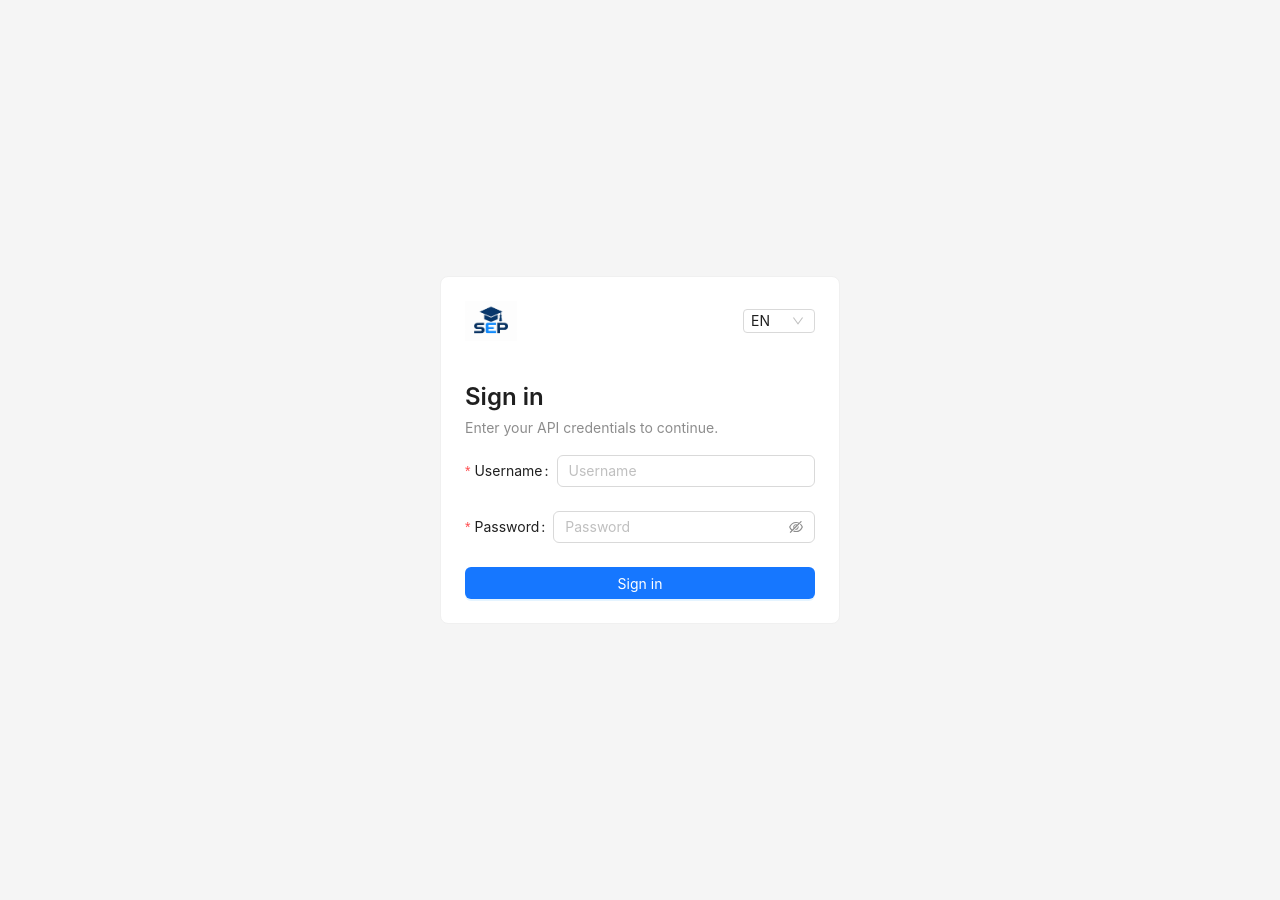
Test: App auth flow › preserves the last selected view across logout and login
Type "dev" into the field labelled "Username" at (686, 471), box [556,455,815,487]
Type "changeme" into the password field labelled "Password" at (675, 527), box [565,516,785,538]
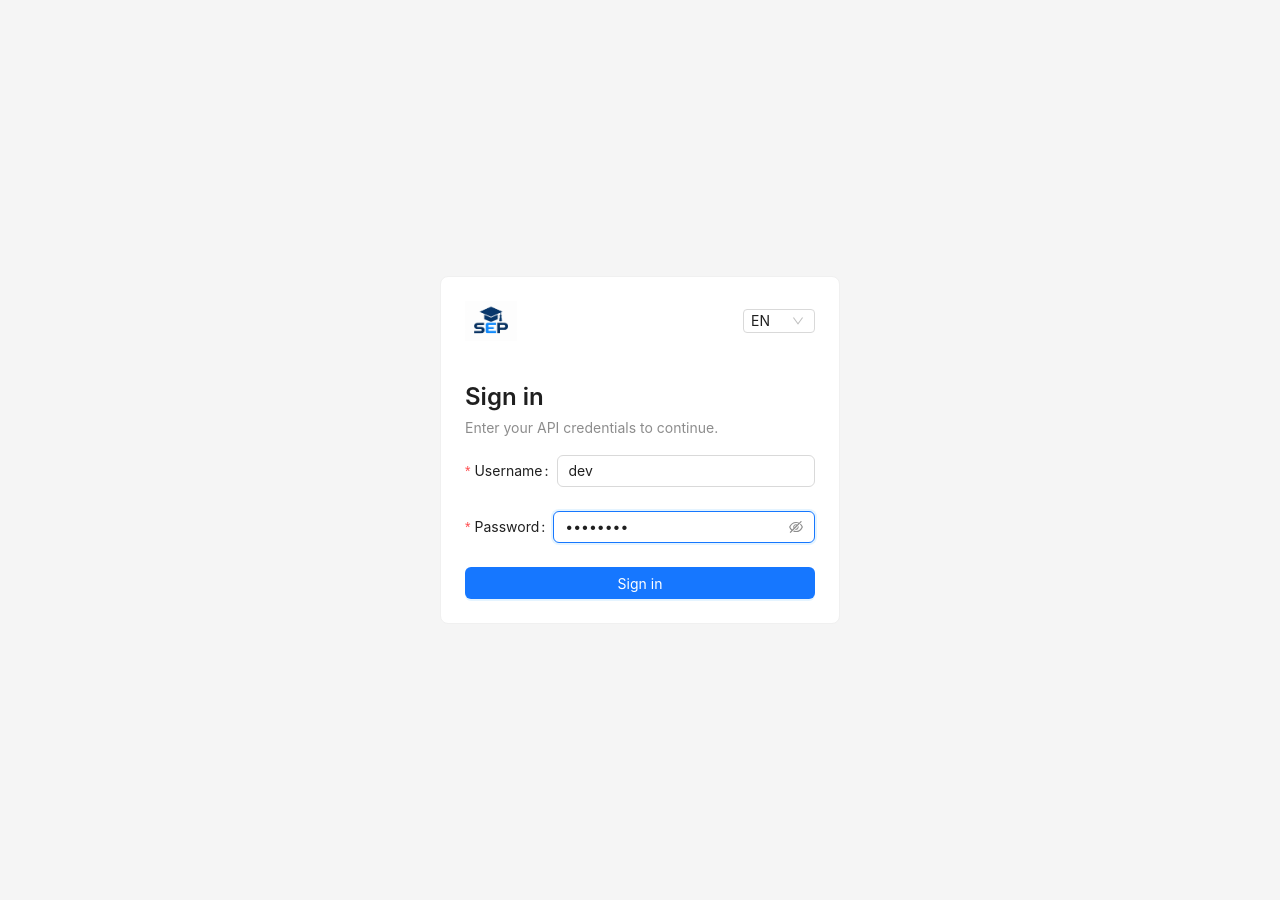
Click the button "Sign in" at (640, 583), box [465,567,815,599]
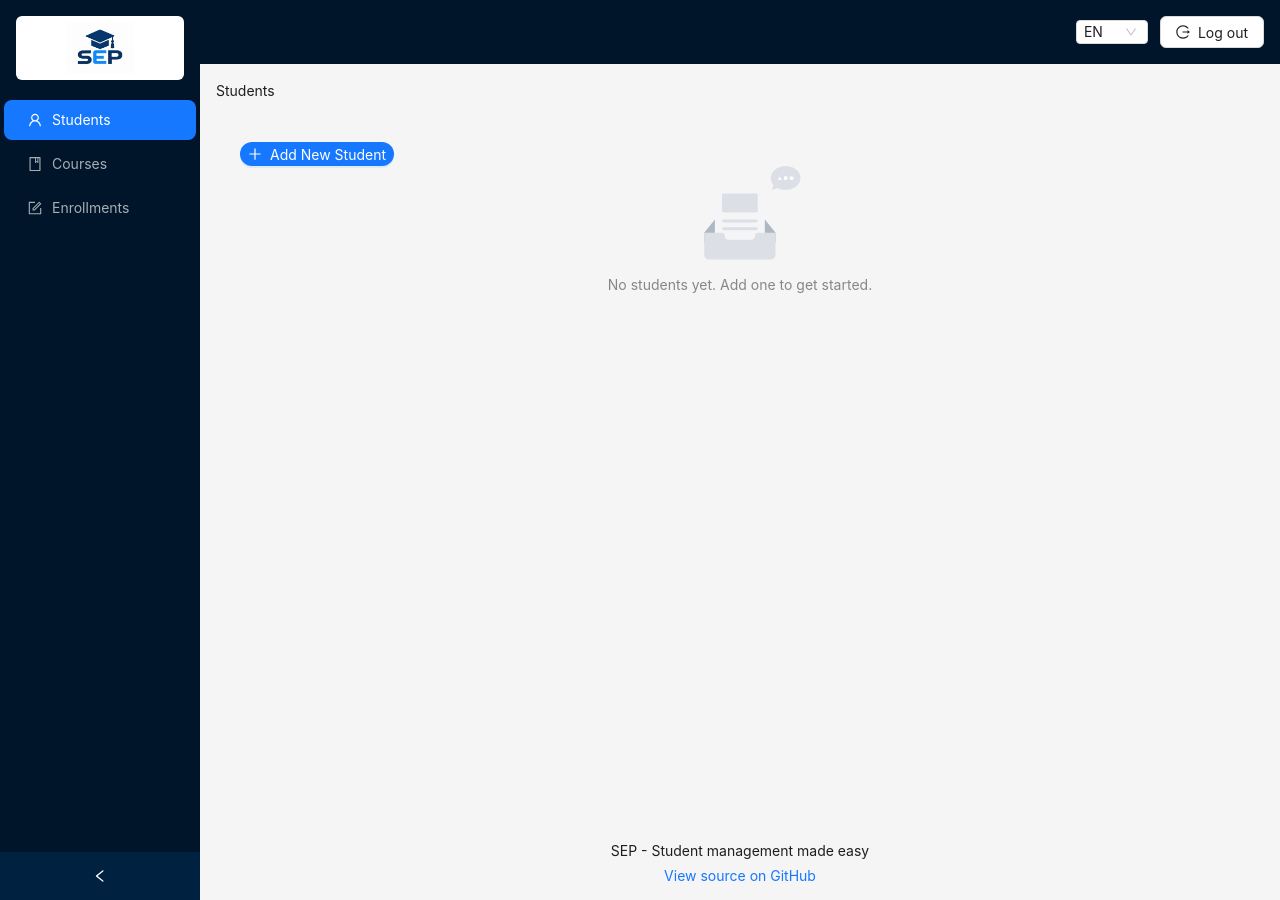
Now the text "Add New Student" is shown, box [270,146,386,162]
Click the menu item "Courses" at (68, 164), box [28,155,107,172]
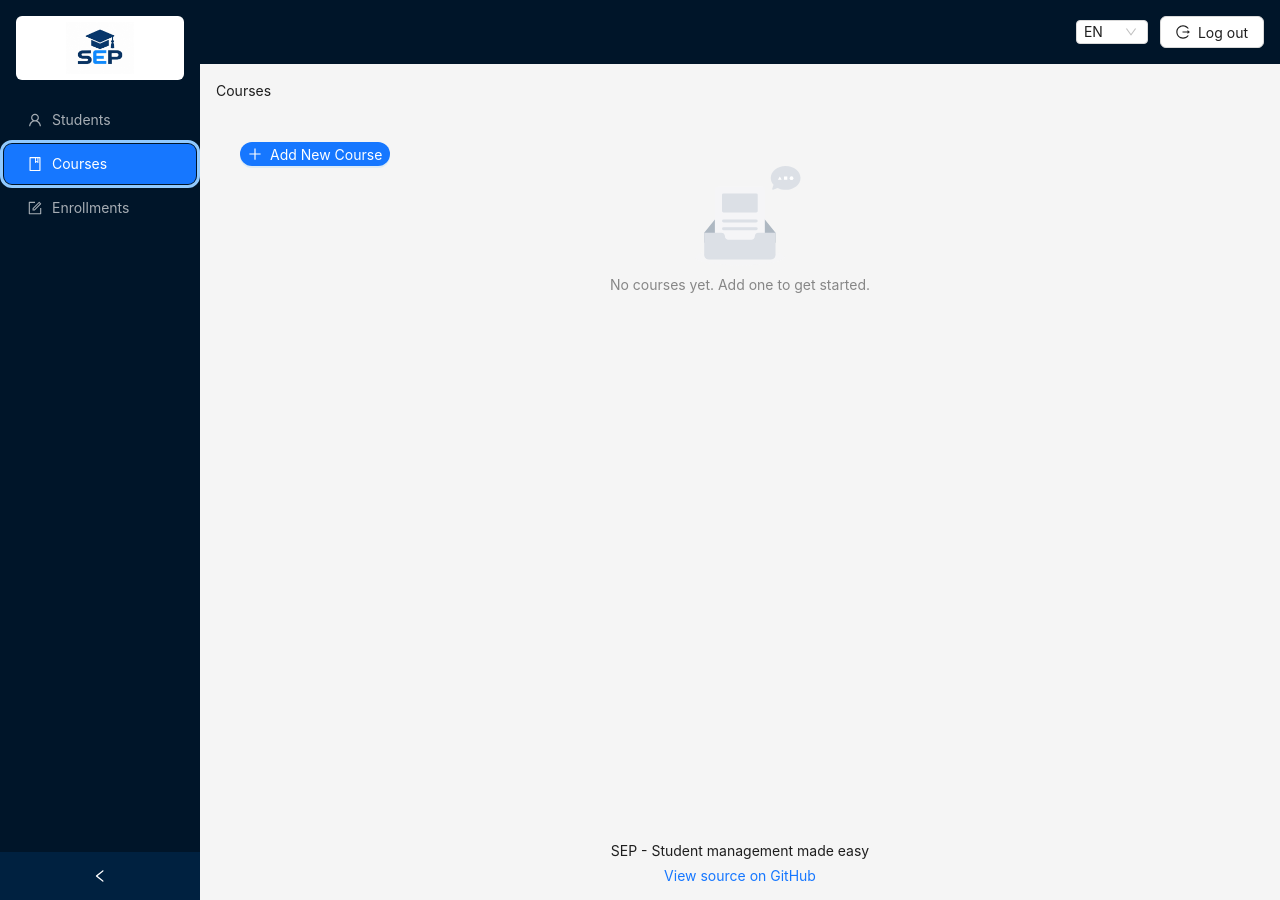
Now the text "Add New Course" is shown, box [270,146,382,162]
Click the button "Log out" at (1212, 32), box [1160,16,1264,48]
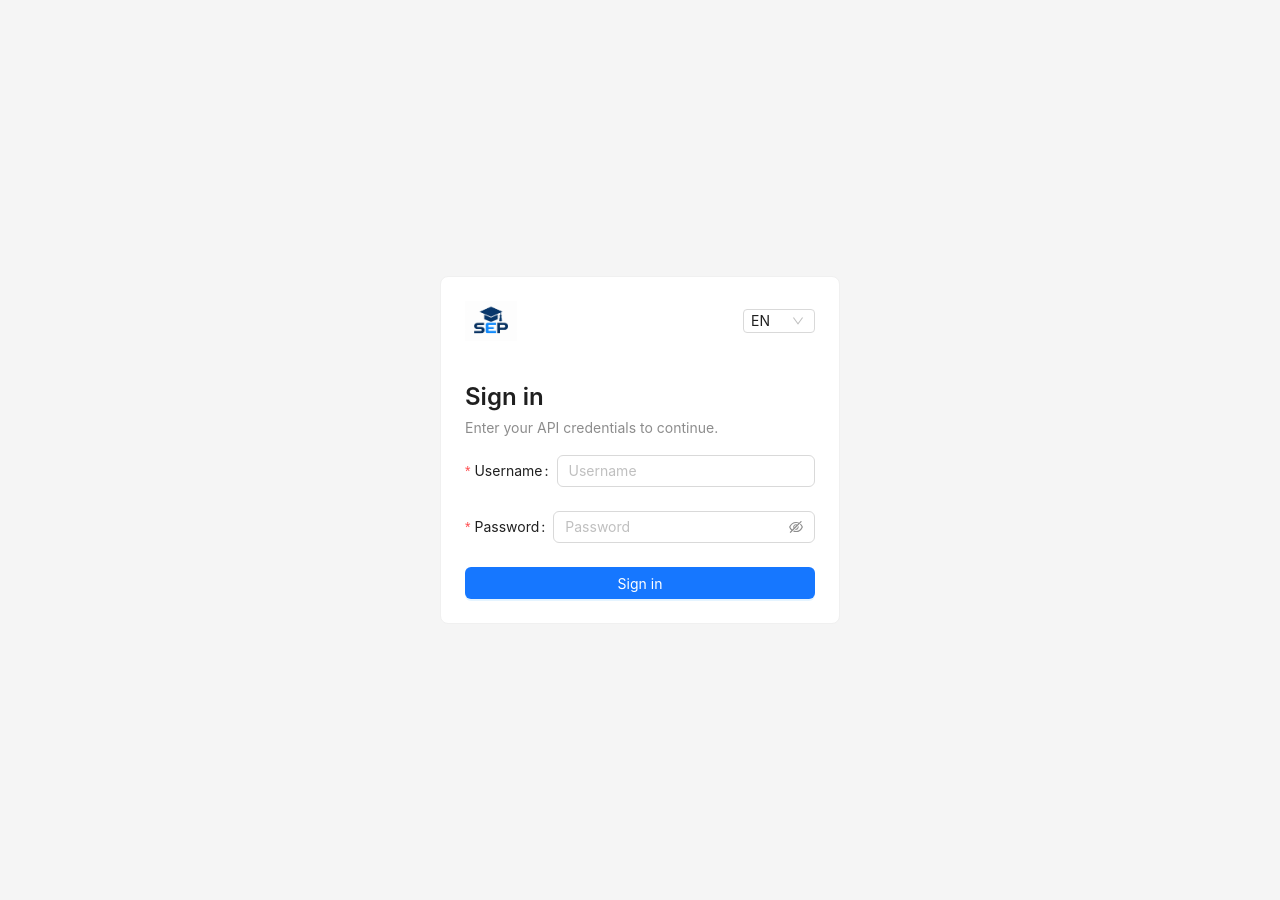
Now the heading "Sign in" is shown, box [465,382,544,411]
Type "dev" into the field labelled "Username" at (686, 471), box [556,455,815,487]
Type "changeme" into the password field labelled "Password" at (675, 527), box [565,516,785,538]
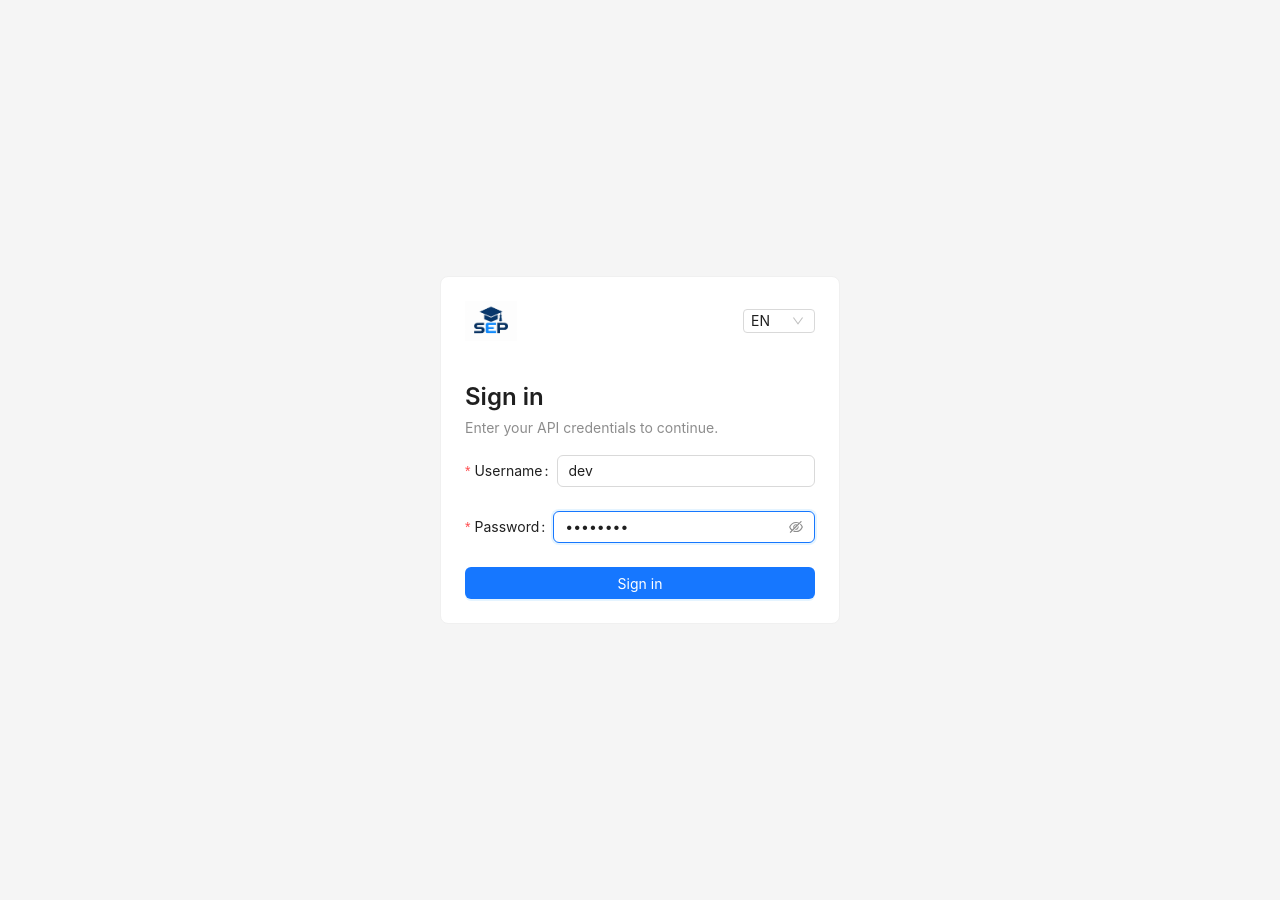
Click the button "Sign in" at (640, 583), box [465,567,815,599]
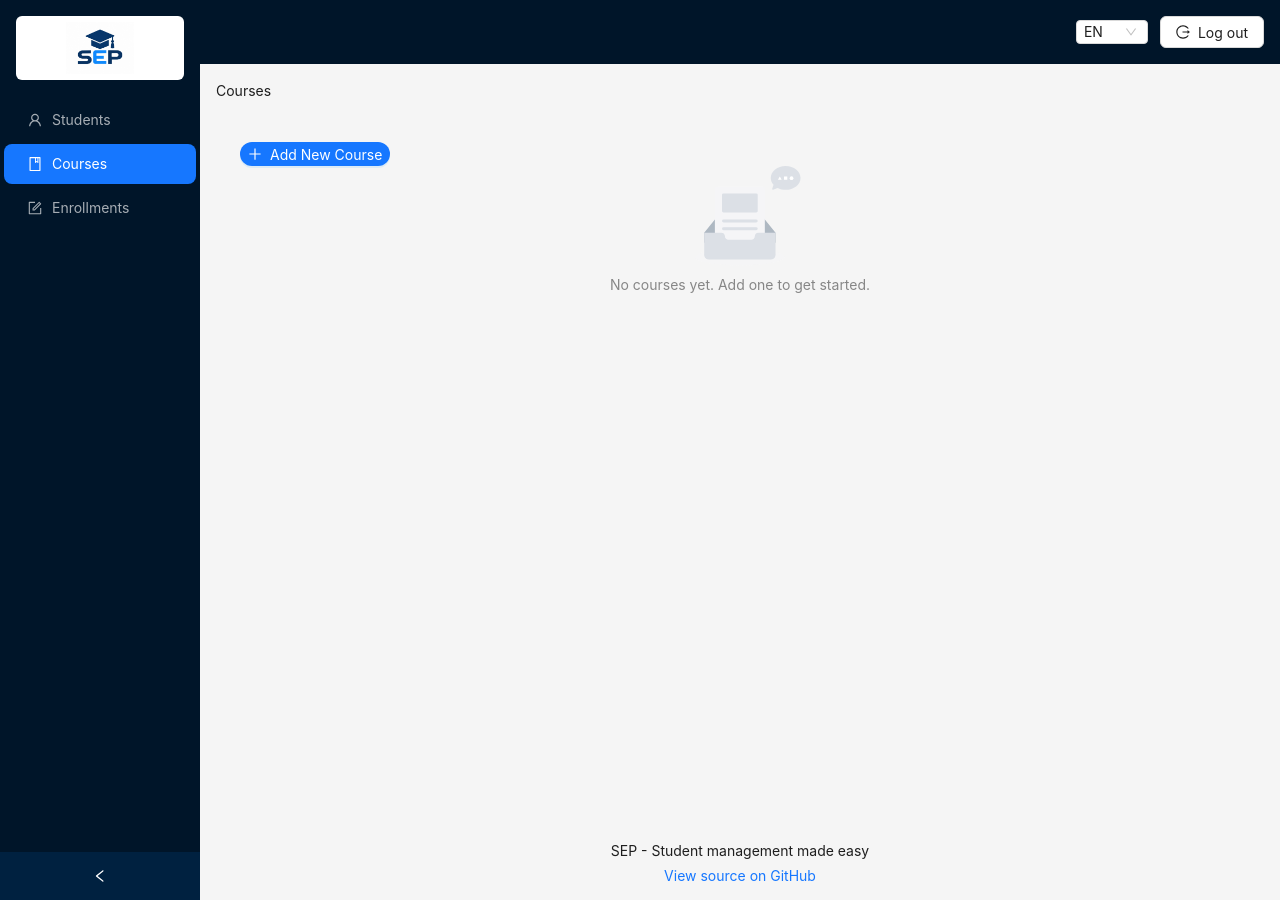
Expected: the button "Add New Student" is not shown
Now the text "Add New Course" is shown, box [270,146,382,162]
Now the navigation bar reads "Courses", box [216,82,271,99]
